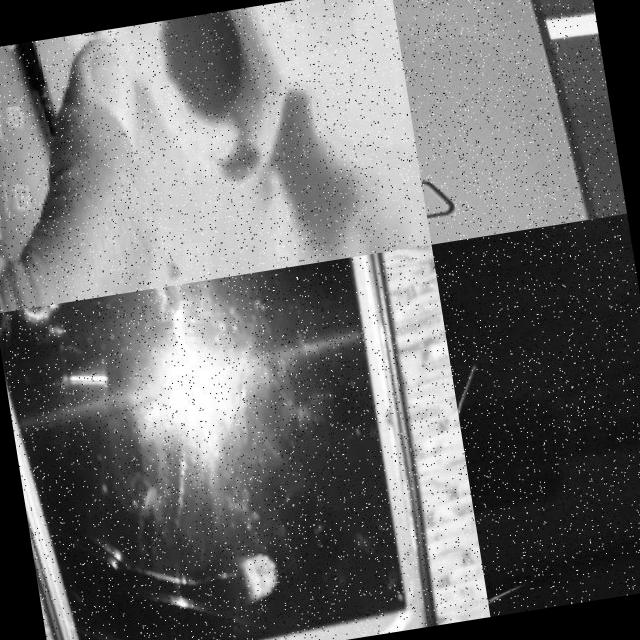scratch: (450, 358, 501, 471)
screen crack: (30, 478, 433, 640), (405, 52, 583, 245)
